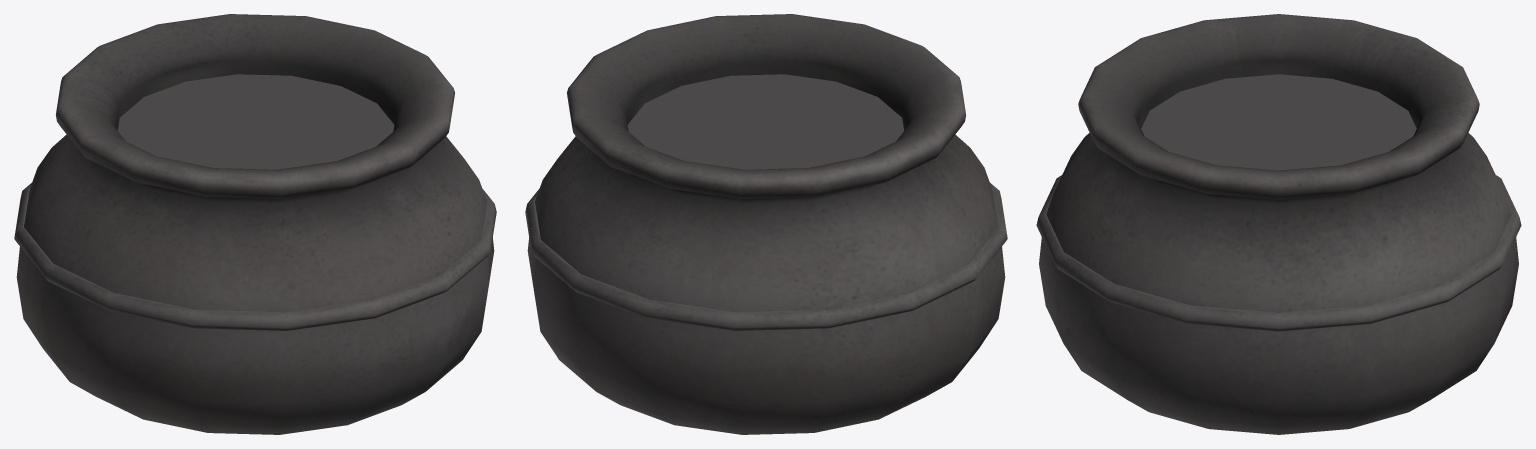
Rendered from cauldron_01.fbx.
The picture shows the model from 3 angles, left to right: view 1: azimuth 30°, elevation 25°; view 2: azimuth 150°, elevation 25°; view 3: azimuth 270°, elevation 25°; orthographic projection.
Visible parts, largest first — view 1: cauldron_uv:mesh_cauldron; view 2: cauldron_uv:mesh_cauldron; view 3: cauldron_uv:mesh_cauldron.
Boxes of the visible parts, x1,y1,x2,y2 form: cauldron_uv:mesh_cauldron: [14, 14, 496, 434]; cauldron_uv:mesh_cauldron: [525, 14, 1007, 434]; cauldron_uv:mesh_cauldron: [1036, 14, 1521, 434].
Bounding box in the file's own units: 103 × 67.76 × 103.
1 material, 1 textured.
